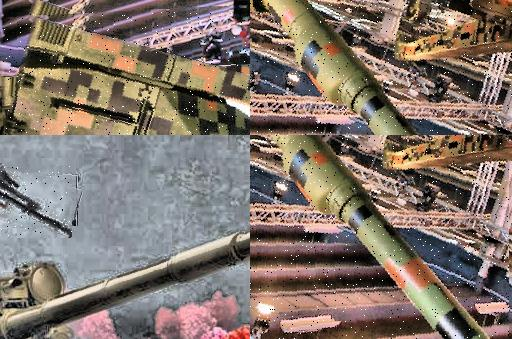tanks: (276, 136, 486, 339), (3, 13, 251, 136), (1, 232, 251, 339), (251, 1, 417, 136), (1, 167, 72, 238)
